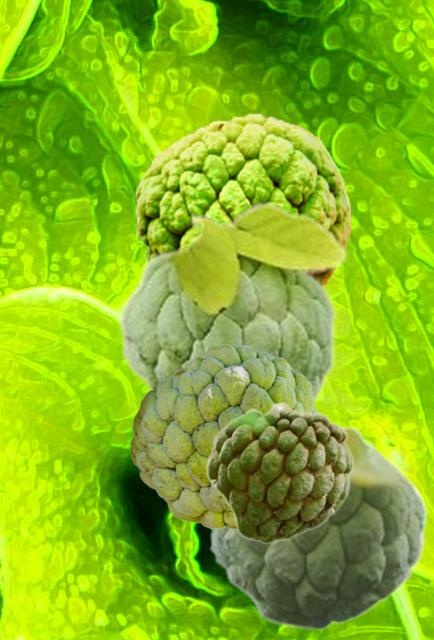atis: (116, 200, 348, 406), (200, 422, 428, 629), (134, 112, 349, 286), (130, 344, 318, 528), (204, 401, 353, 543)
